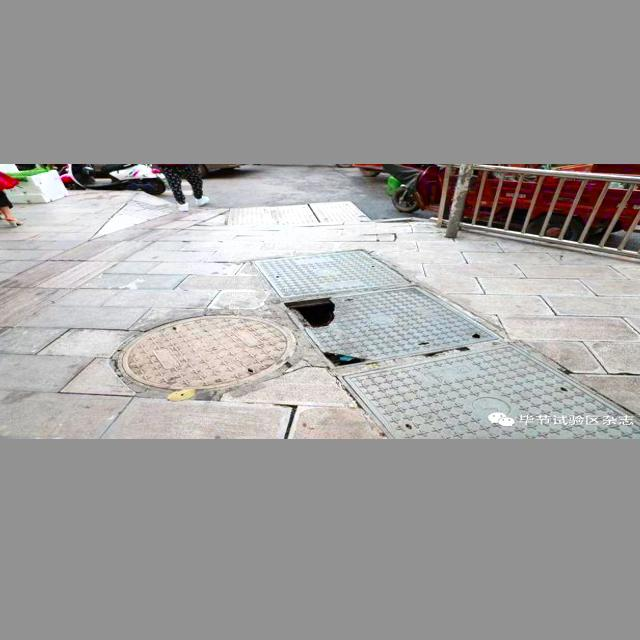broke: (278, 290, 511, 369)
